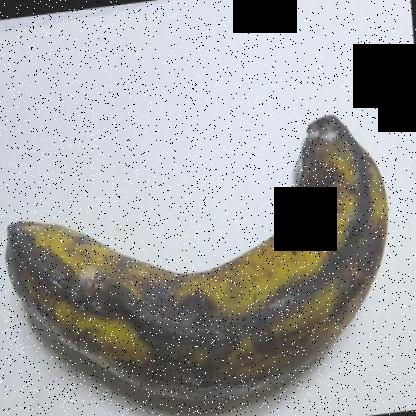overripe: (1, 103, 400, 415)
rotten: (286, 86, 361, 181)
